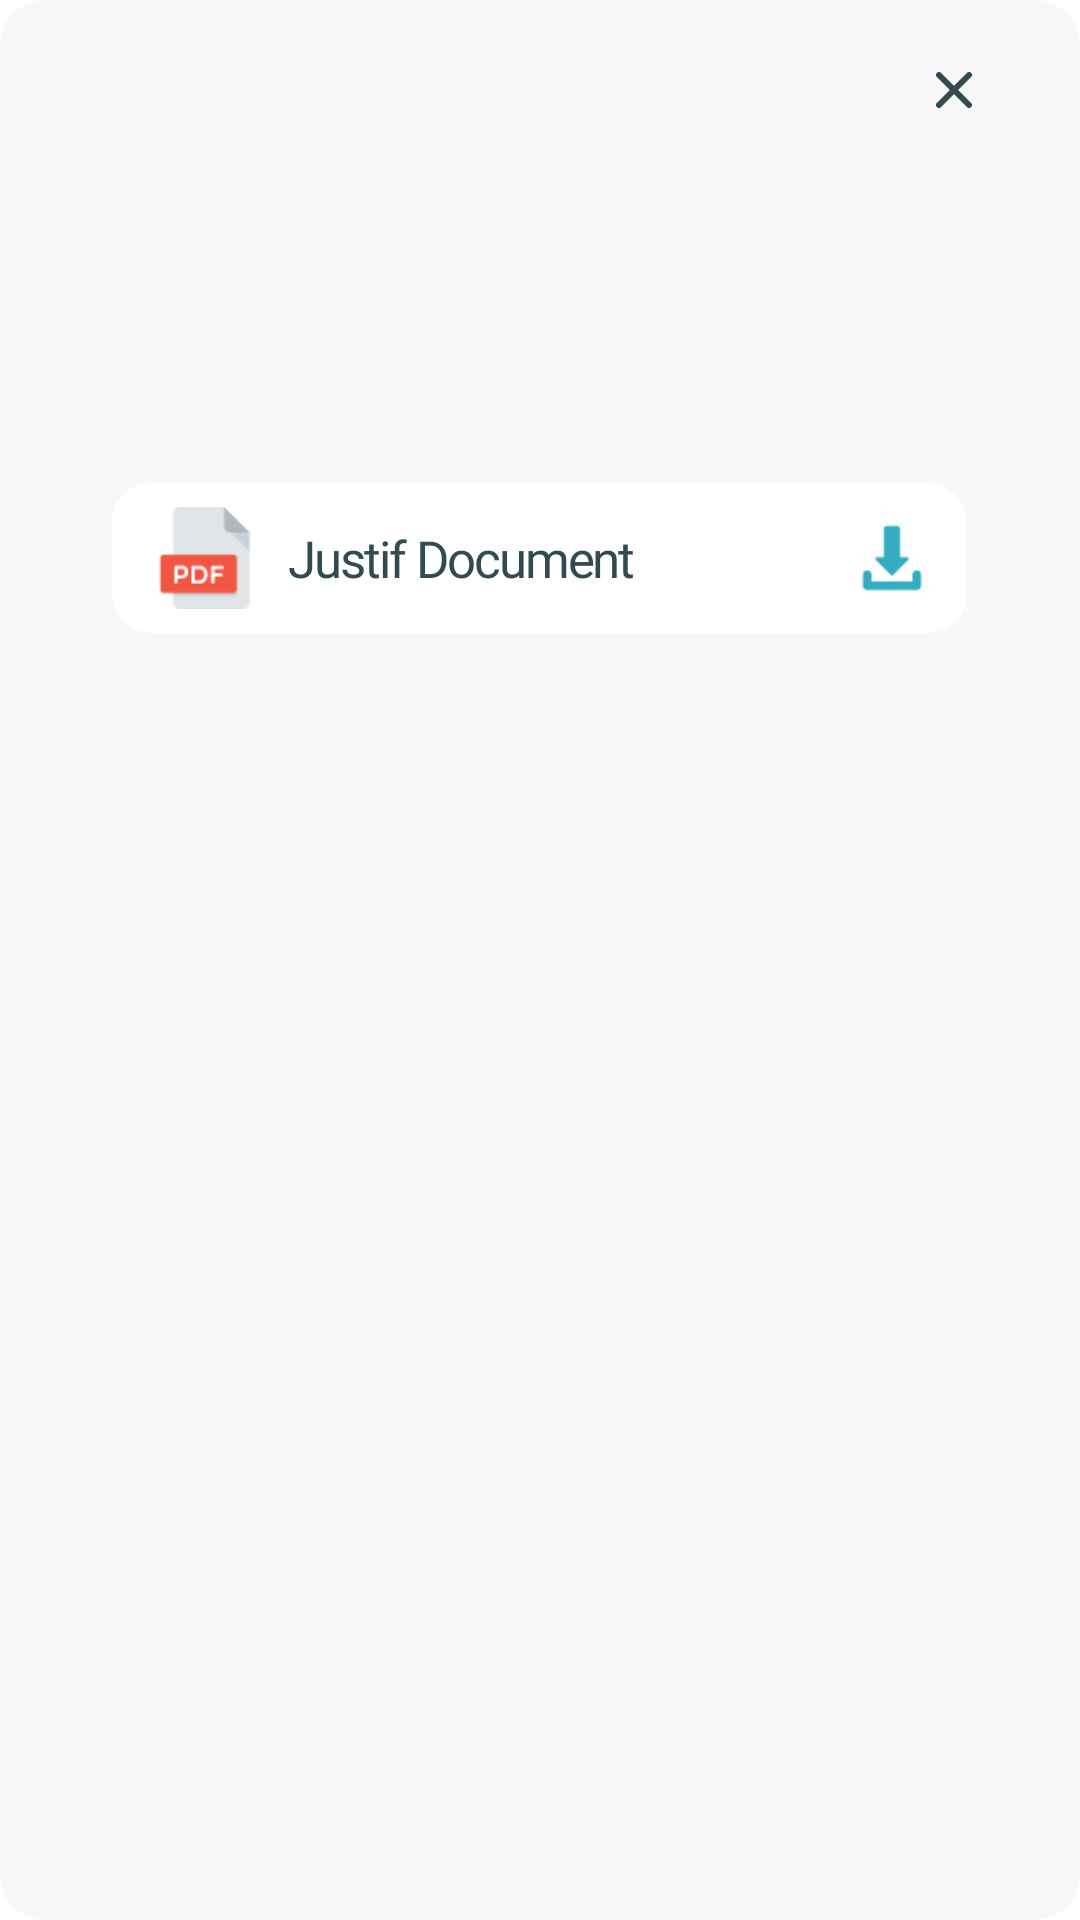

Icons on this 1080px×1920px Android screen, each with its box as (x1, y1, x2, y2):
close: (936, 72, 972, 108)
download: (862, 525, 922, 591)
